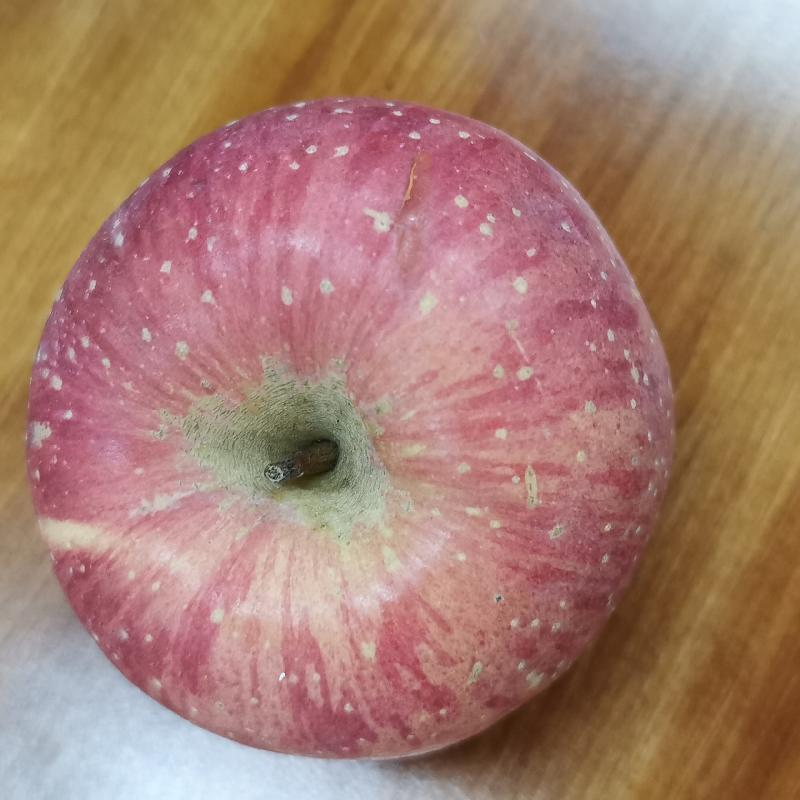apples: (27, 96, 679, 769)
